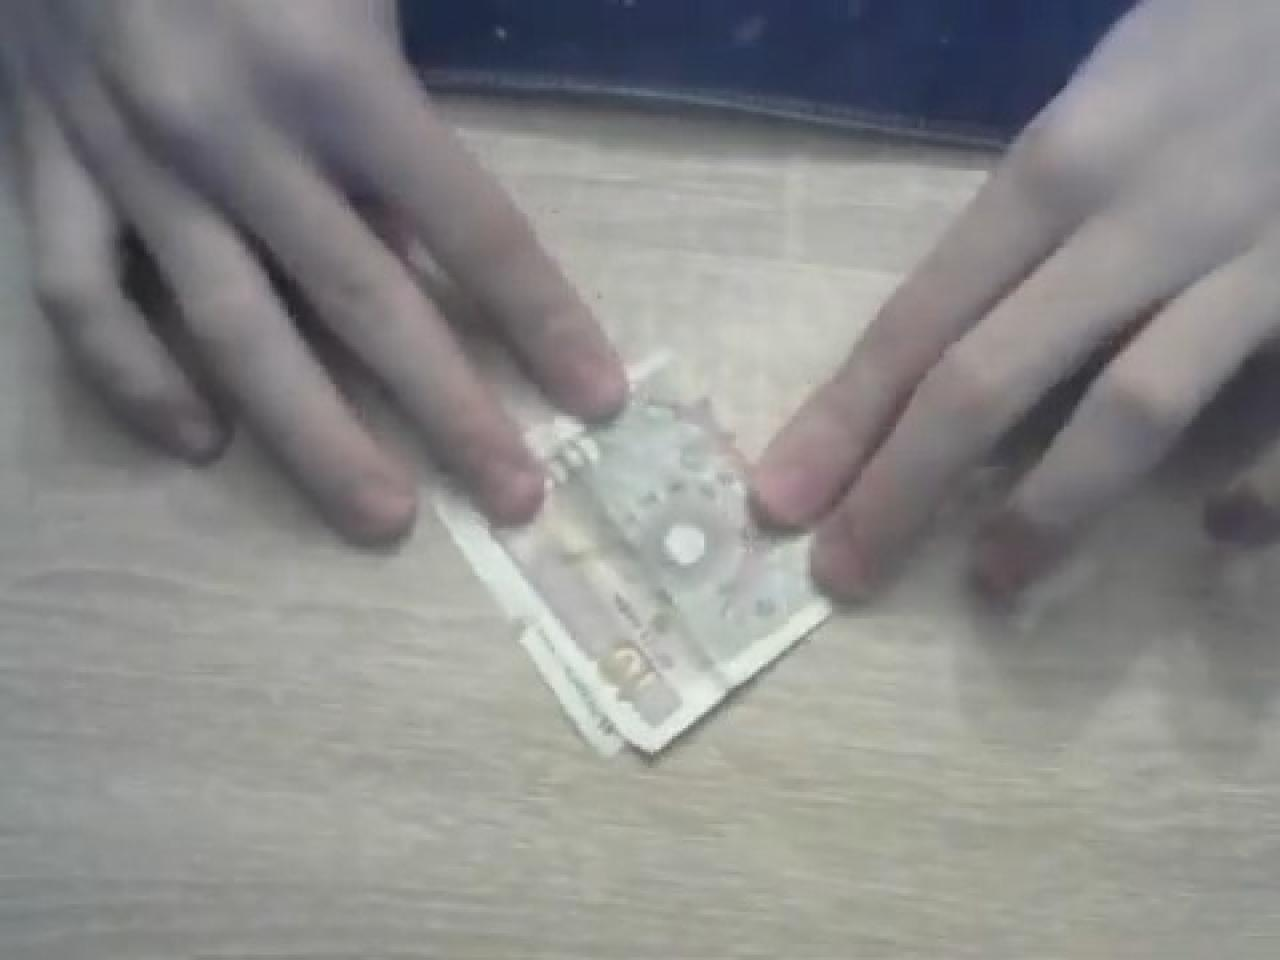10leva: (426, 368, 835, 765)
